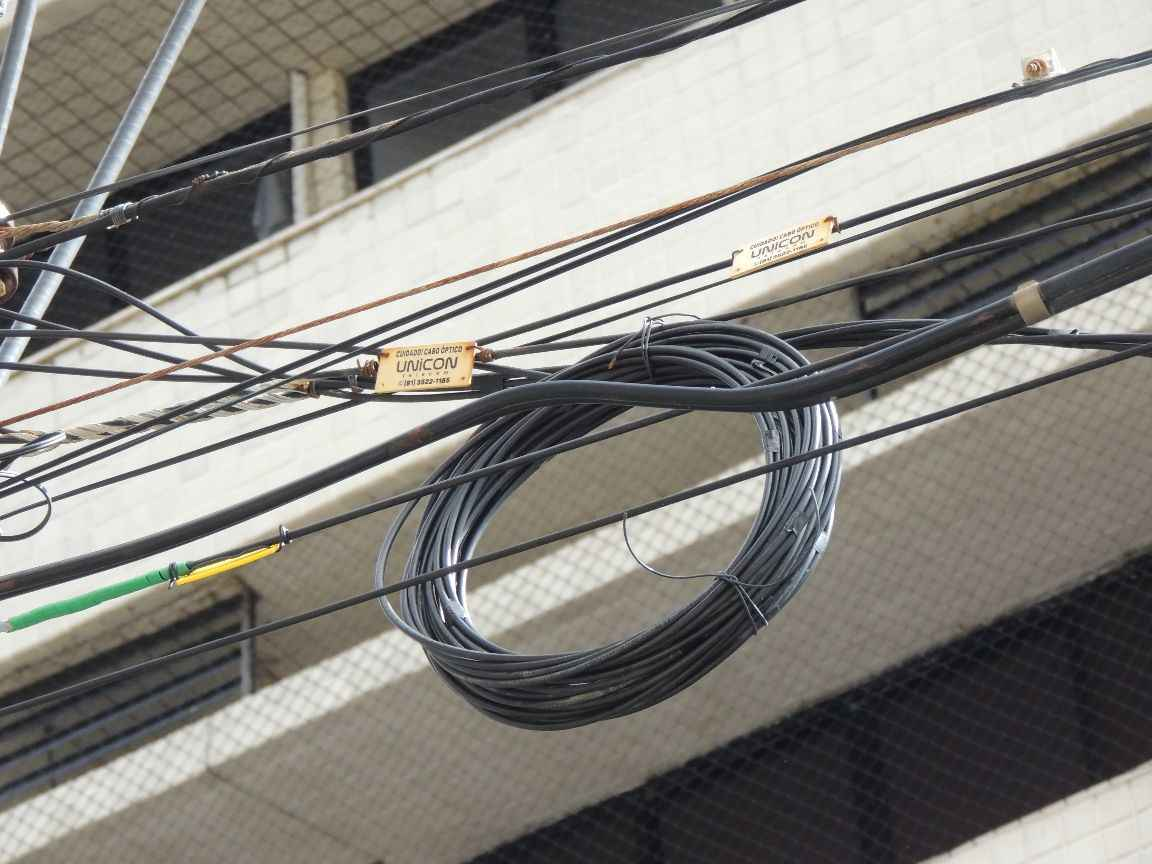coaxial: (2, 17, 672, 294)
fibra_optica: (702, 217, 842, 267), (355, 342, 472, 394)
tronco_metalico: (412, 310, 841, 731)
